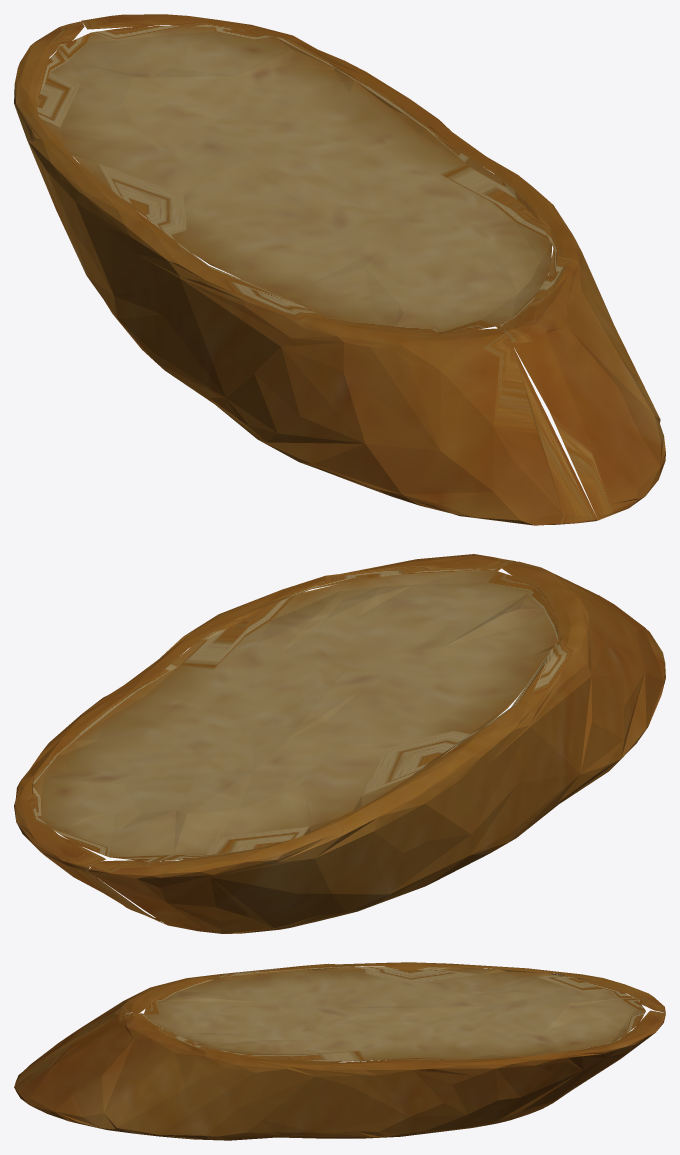
Rendered from food_prepared_baguette_e01.glb.
3 views of the same model, one above another, from view 1: azimuth 30°, elevation 25°; view 2: azimuth 150°, elevation 25°; view 3: azimuth 270°, elevation 25° (orthographic). The views are drawn at different scales.
Visible parts, largest first — view 1: geometry_0; view 2: geometry_0; view 3: geometry_0.
Part boxes in pixels (x1,y1,x2,y2): geometry_0: [14, 14, 665, 525]; geometry_0: [14, 554, 665, 933]; geometry_0: [14, 962, 665, 1140].
Size of the model in its own units: 0.1662 by 0.0572 by 0.42.
Materials: 1 (1 with a texture image).
